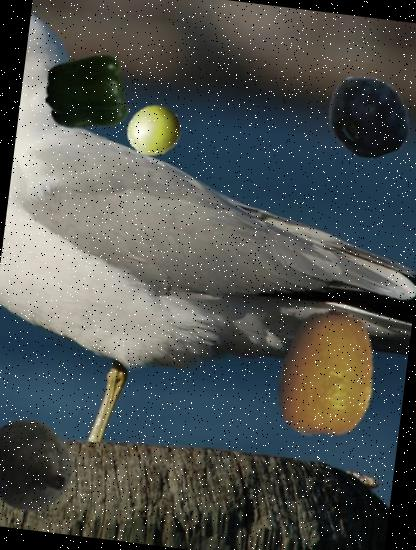Apple: (123, 100, 184, 162)
Beetroot: (0, 410, 88, 526)
Blueberry: (320, 68, 416, 164)
Kumquats: (255, 303, 399, 447)
Pepper: (40, 47, 132, 139)
